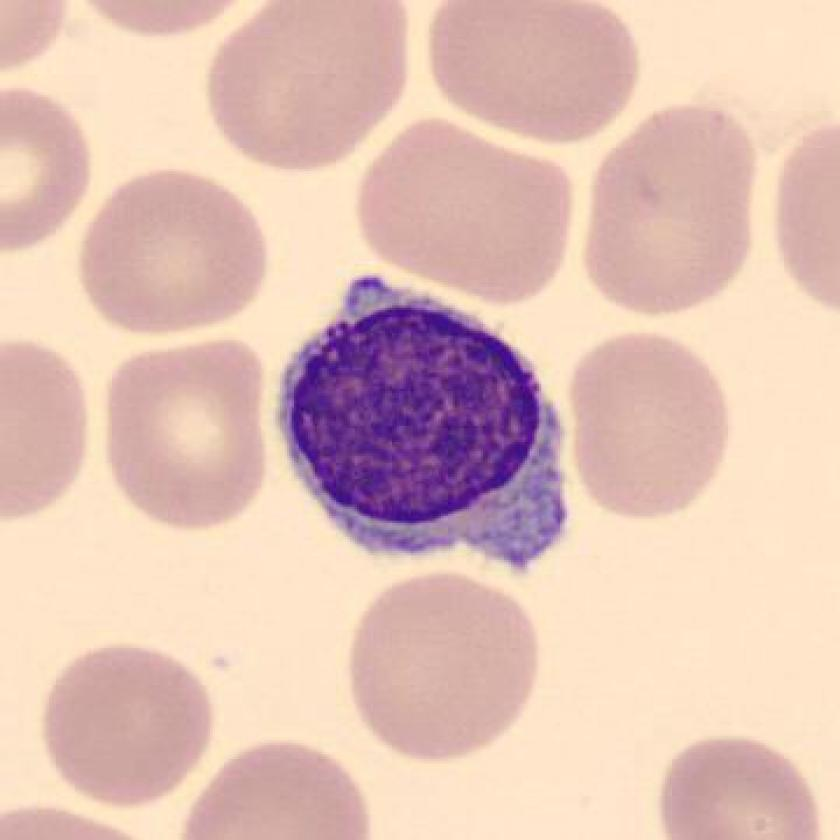lymphocyte: (262, 253, 587, 598)
